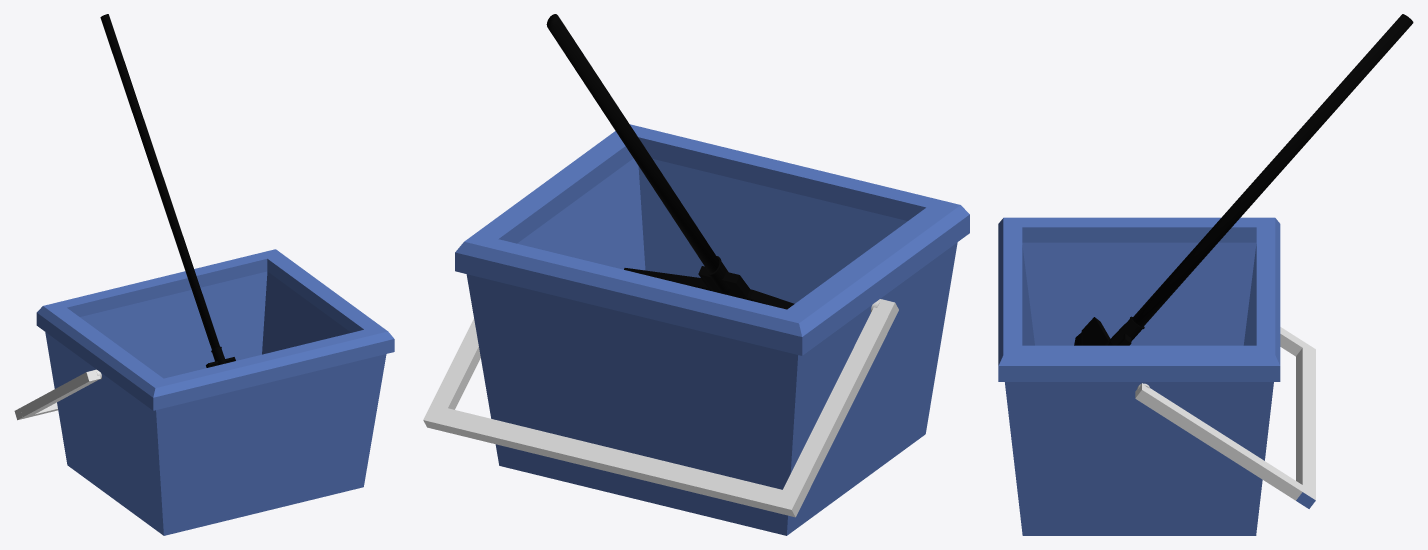
File: Mop_Bucket.fbx
The picture shows the model from 3 angles, left to right: view 1: azimuth 30°, elevation 25°; view 2: azimuth 150°, elevation 25°; view 3: azimuth 270°, elevation 25°; orthographic projection. The views are drawn at different scales.
Parts seen in each view (by area): view 1: バケツ, モップ; view 2: バケツ, モップ; view 3: バケツ, モップ.
Boxes of the visible parts, <box> form: バケツ: <box>14,249,394,535</box>; モップ: <box>100,14,235,367</box>; バケツ: <box>423,124,969,535</box>; モップ: <box>546,14,794,309</box>; バケツ: <box>998,217,1315,535</box>; モップ: <box>1074,14,1413,345</box>.
Size of the model in its own units: 302 by 432 by 351.
